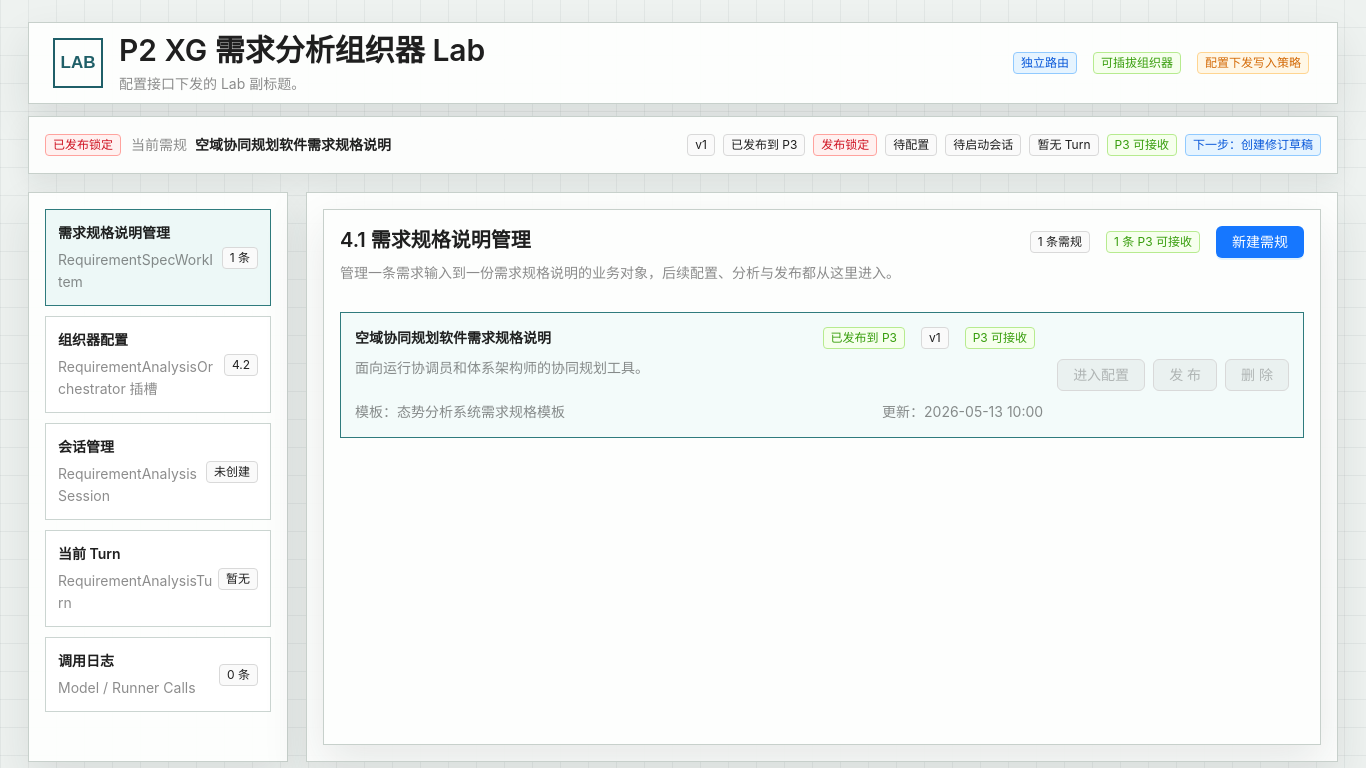
Test: locks configuration and editing actions for a published requirement spec
Expected: the heading "P2 XG 需求分析组织器 Lab" is shown, [119,31,485,69]
Expected: the text "已发布锁定" is shown, [45,134,121,156]
Click the tab "组织器配置 RequirementAnalysisOrchestrator 插槽 4.2" at point(158, 364), box [45,316,271,413]
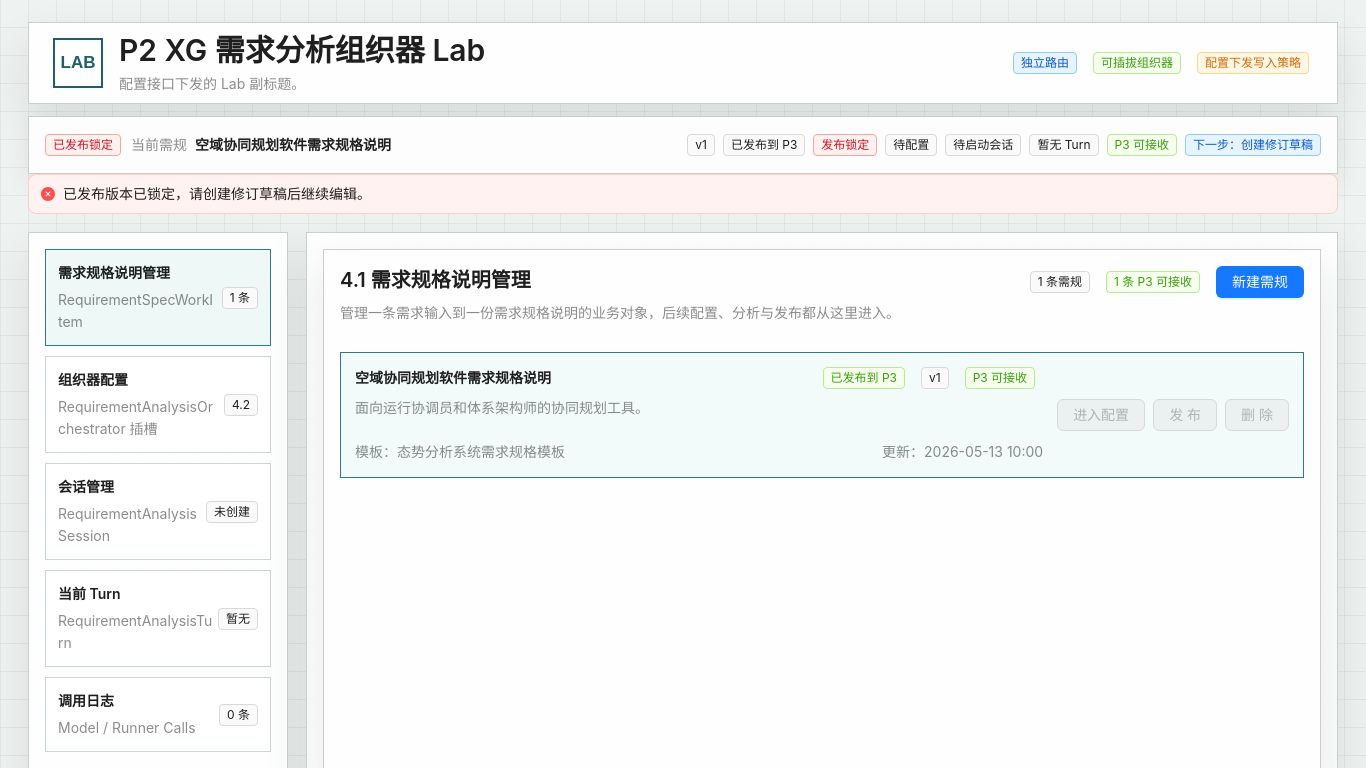
Expected: the text "已发布版本已锁定，请创建修订草稿后继续编辑。" is shown, [63,185,371,202]
